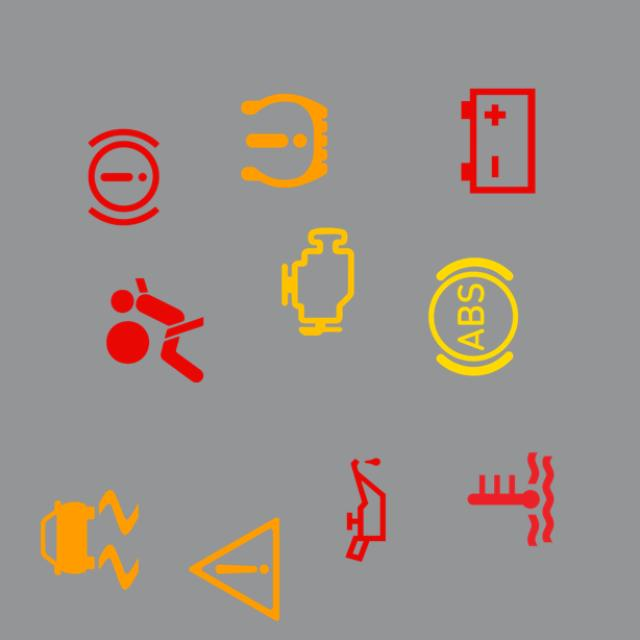Anti Lock Braking System: (408, 252, 538, 382)
Braking System Issue: (59, 112, 189, 242)
Charging System Issue: (433, 76, 563, 205)
Check Engine: (253, 217, 383, 346)
Electronic Stability Problem -ESP-: (25, 475, 154, 605)
Engine Overheating Warning Light: (446, 435, 575, 564)
Low Engine Oil Warning Light: (301, 445, 431, 574)
Low Tire Pressure Warning Light: (220, 76, 349, 205)
Master warning light: (170, 504, 299, 634)
SRS-Airbag: (91, 266, 220, 395)
